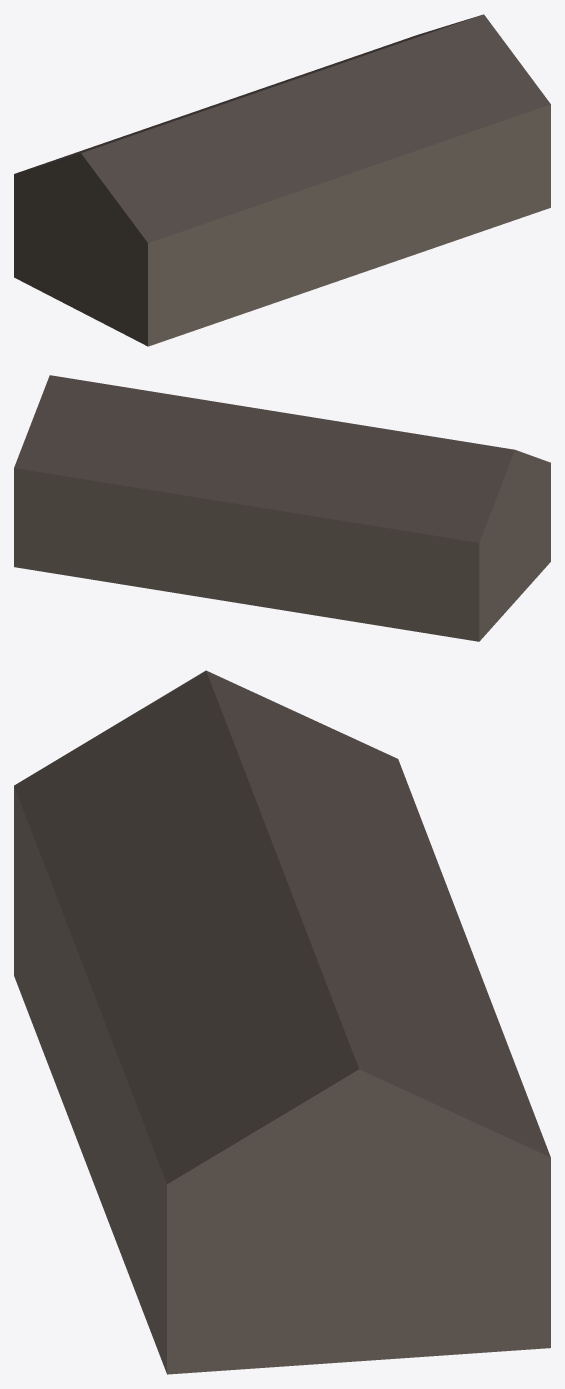
The picture shows the model from 3 angles, top to bottom: view 1: azimuth 30°, elevation 25°; view 2: azimuth 150°, elevation 25°; view 3: azimuth 270°, elevation 25°; orthographic projection. The views are drawn at different scales.
Parts seen in each view (by area): view 1: HP-w1376988743; view 2: HP-w1376988743; view 3: HP-w1376988743.
Boxes of the visible parts, x1,y1,x2,y2 form: HP-w1376988743: (14, 14, 550, 346); HP-w1376988743: (14, 375, 550, 641); HP-w1376988743: (14, 670, 550, 1374).
Bounding box in the file's own units: 28.79 × 9.21 × 15.36.
